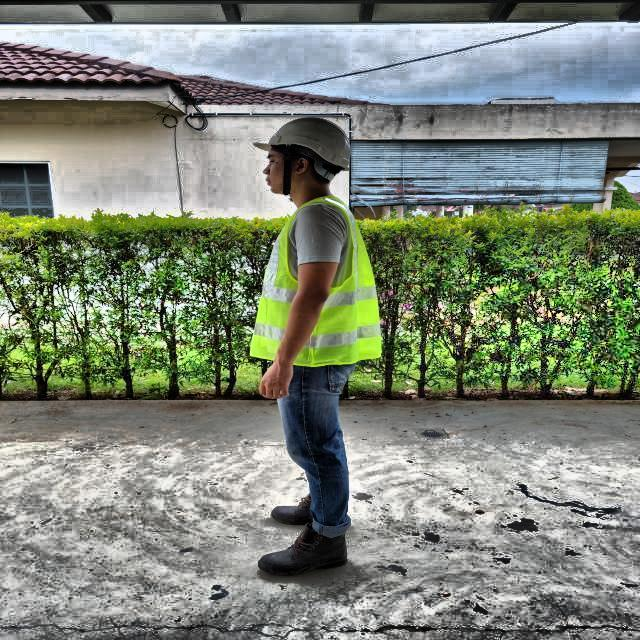safety_helmet: (252, 115, 357, 174)
safety_jacket: (248, 199, 383, 367)
